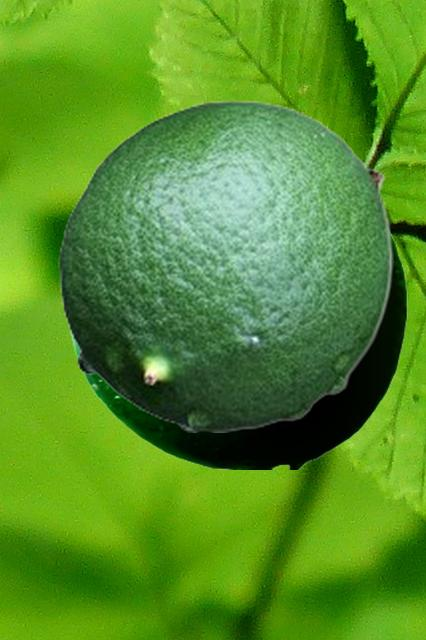calamansi: (58, 99, 392, 431), (68, 228, 406, 468)
